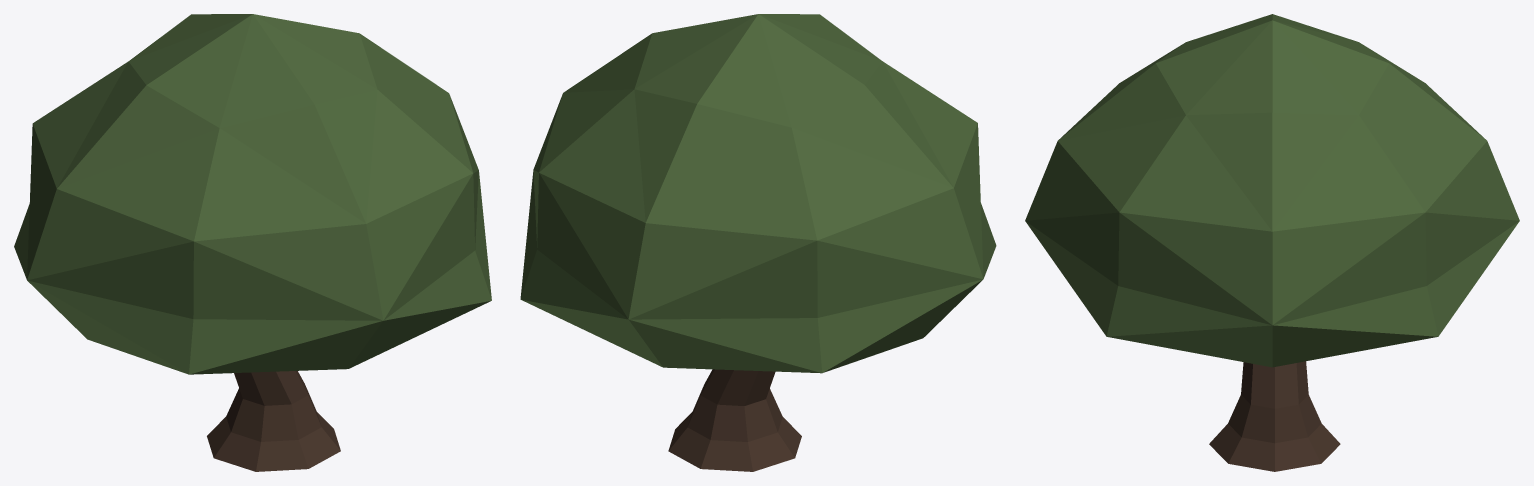
Rendered from BigTree.fbx.
The picture shows the model from 3 angles, left to right: view 1: azimuth 30°, elevation 25°; view 2: azimuth 150°, elevation 25°; view 3: azimuth 270°, elevation 25°; orthographic projection. The views are drawn at different scales.
Parts seen in each view (by area): view 1: treetop3, pCylinder2; view 2: treetop3, pCylinder2; view 3: treetop3, pCylinder2.
Boxes of the visible parts, x1=… form: treetop3: x1=14, y1=14, x2=491, y2=374; pCylinder2: x1=207, y1=371, x2=340, y2=471; treetop3: x1=520, y1=14, x2=996, y2=373; pCylinder2: x1=668, y1=369, x2=801, y2=471; treetop3: x1=1025, y1=14, x2=1519, y2=367; pCylinder2: x1=1209, y1=361, x2=1340, y2=471.
Bounding box in the file's own units: 43.45 × 40.05 × 43.45.
